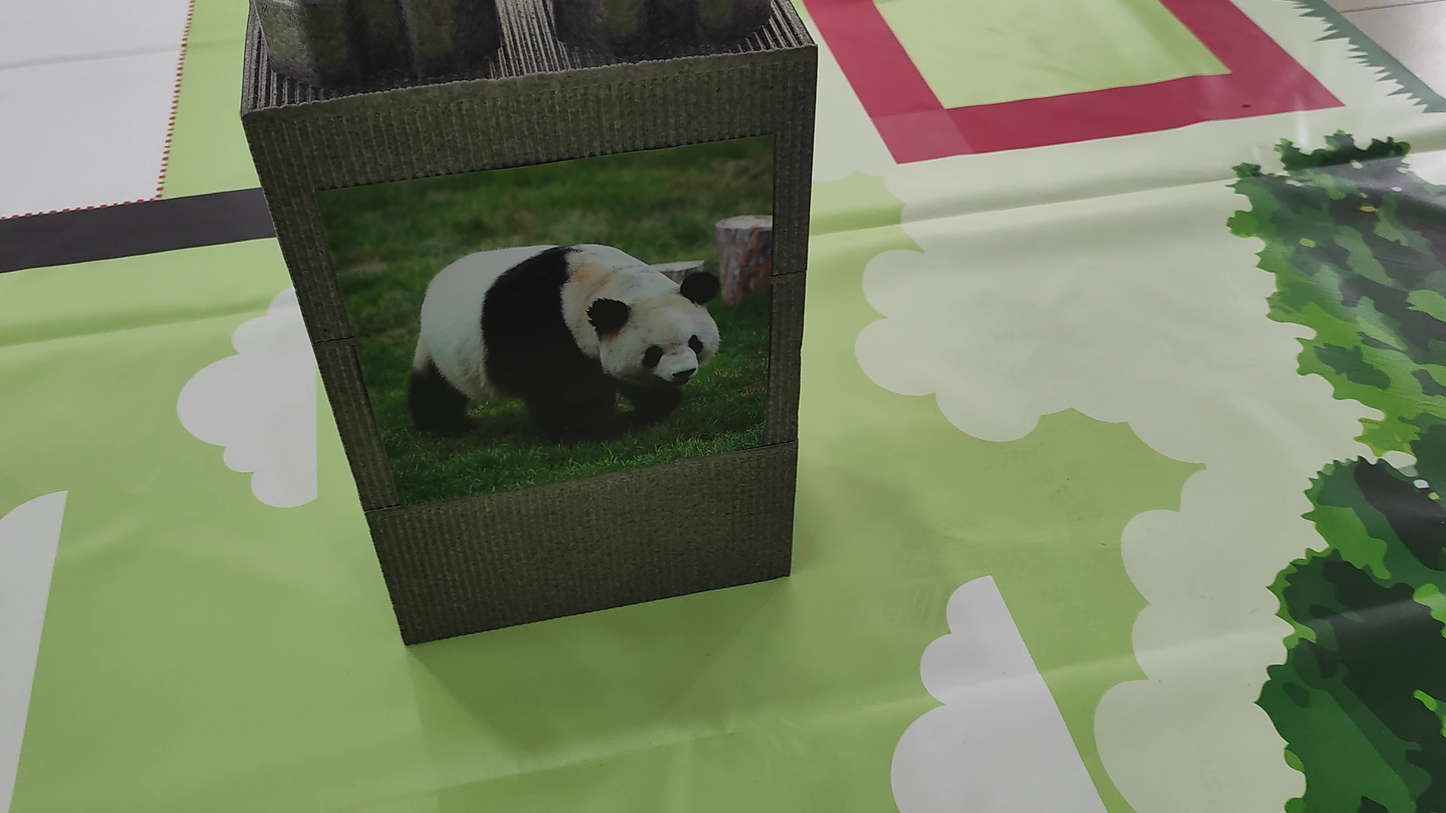panda: (400, 173, 750, 449)
